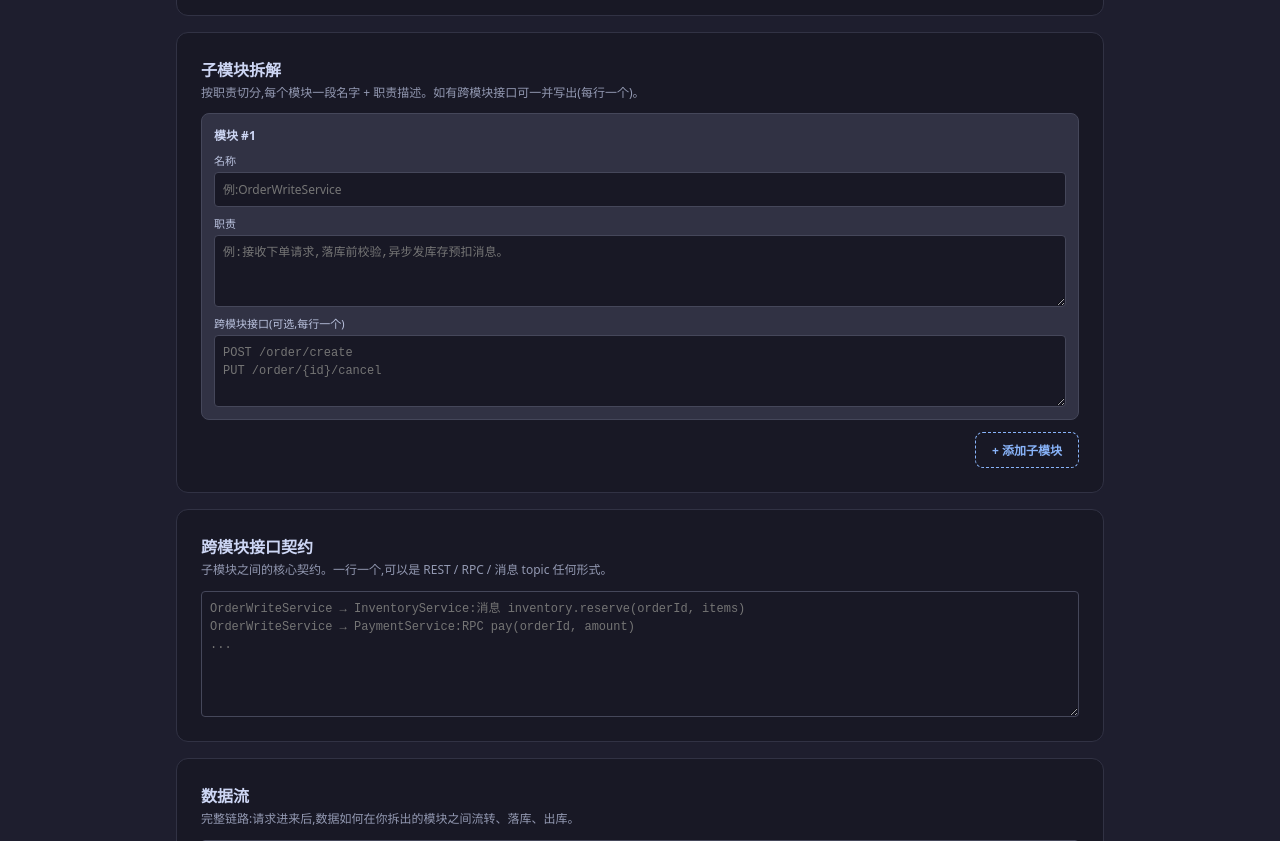
Test: <ModuleDPage /> › dynamic submodules › removes a non-first submodule but never the last one
(page scrolled)
Click the button with test id "md-add-submodule" at (1027, 450), box top-left (975, 432), bottom-right (1079, 468)
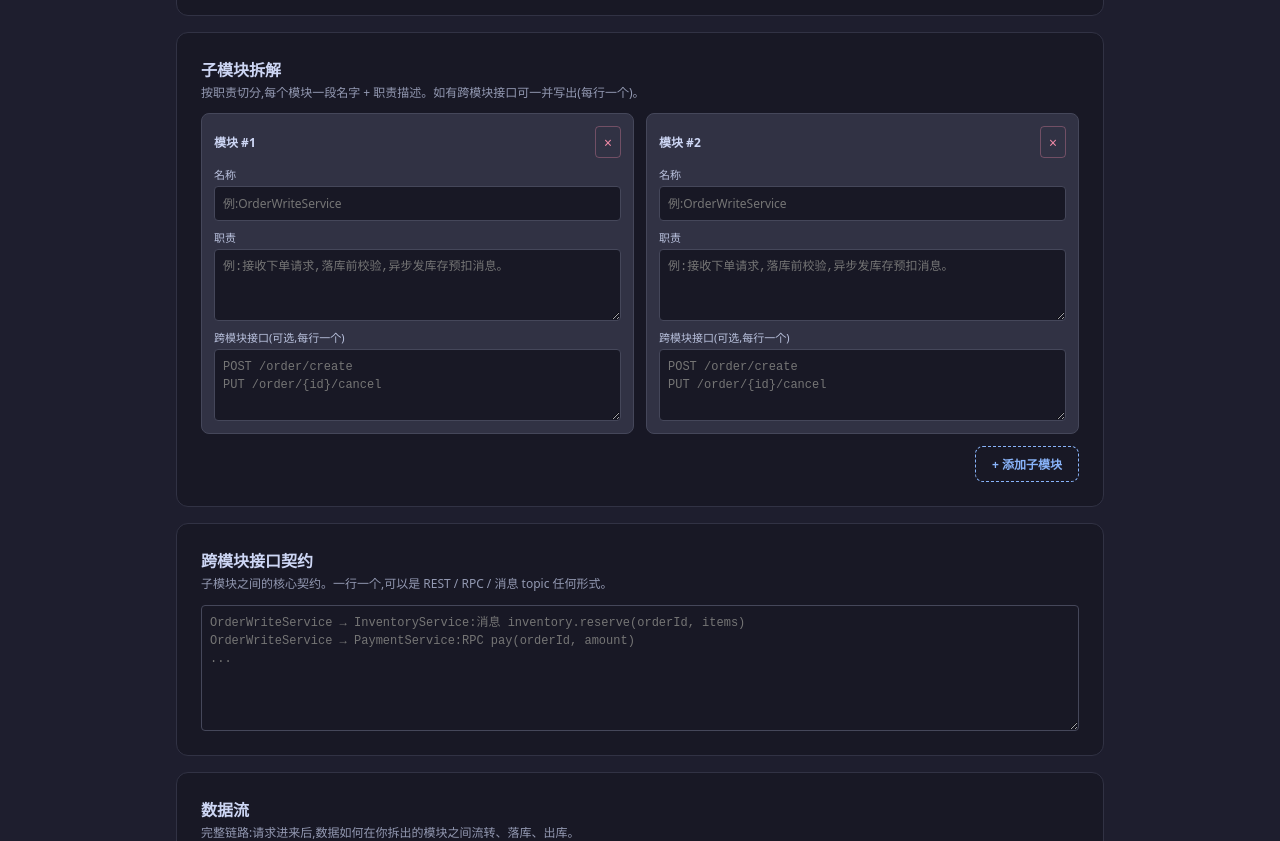
Check: the element with test id "md-submodule-card-1" is shown, box top-left (646, 114), bottom-right (1079, 434)
Click the button with test id "md-submodule-remove-1" at (1053, 142), box top-left (1040, 126), bottom-right (1066, 158)
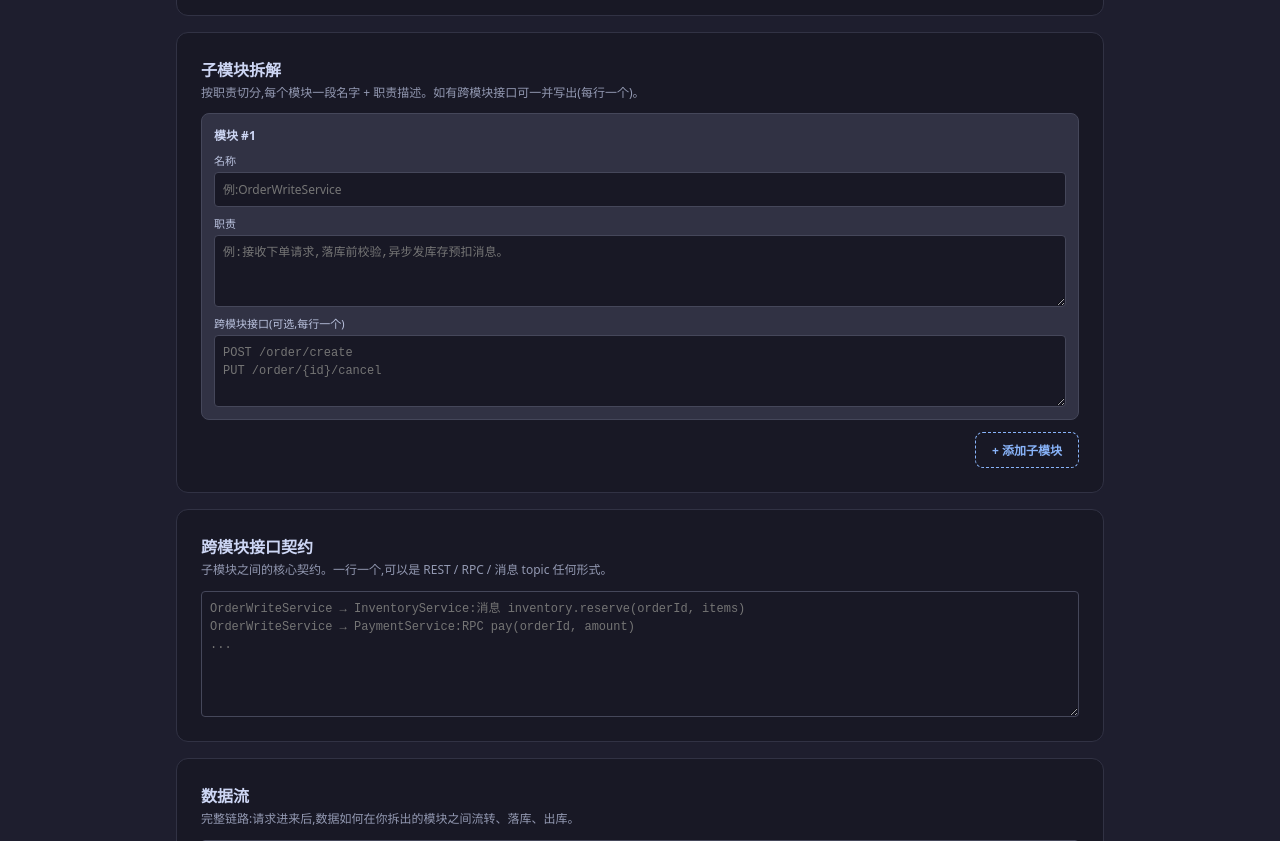
Check: the element with test id "md-submodule-card-1" is gone
Check: the button with test id "md-submodule-remove-0" is gone
